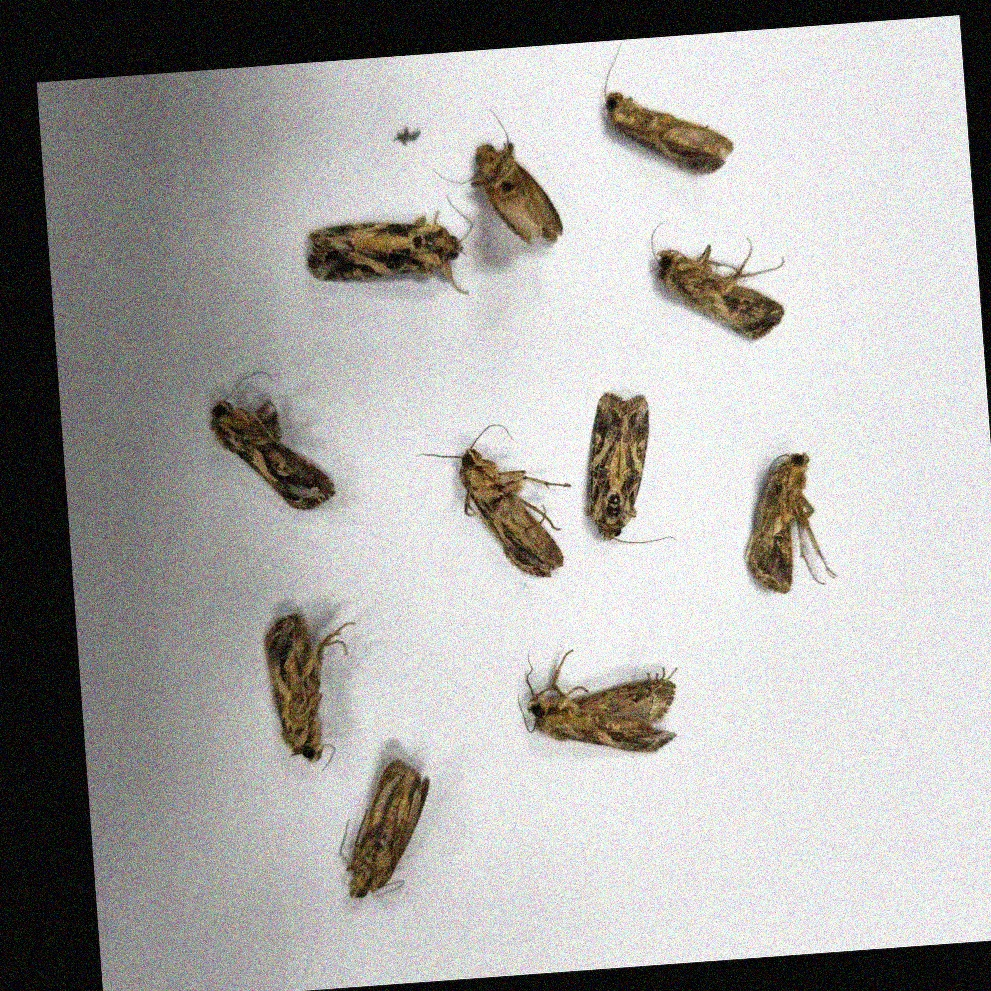Spodoptera litura: (420, 424, 573, 581), (517, 647, 681, 756), (603, 37, 730, 177), (434, 109, 560, 248), (212, 370, 333, 512), (305, 199, 475, 300), (649, 217, 786, 342), (267, 612, 361, 773), (581, 391, 673, 544), (338, 759, 434, 896), (741, 454, 833, 593)
